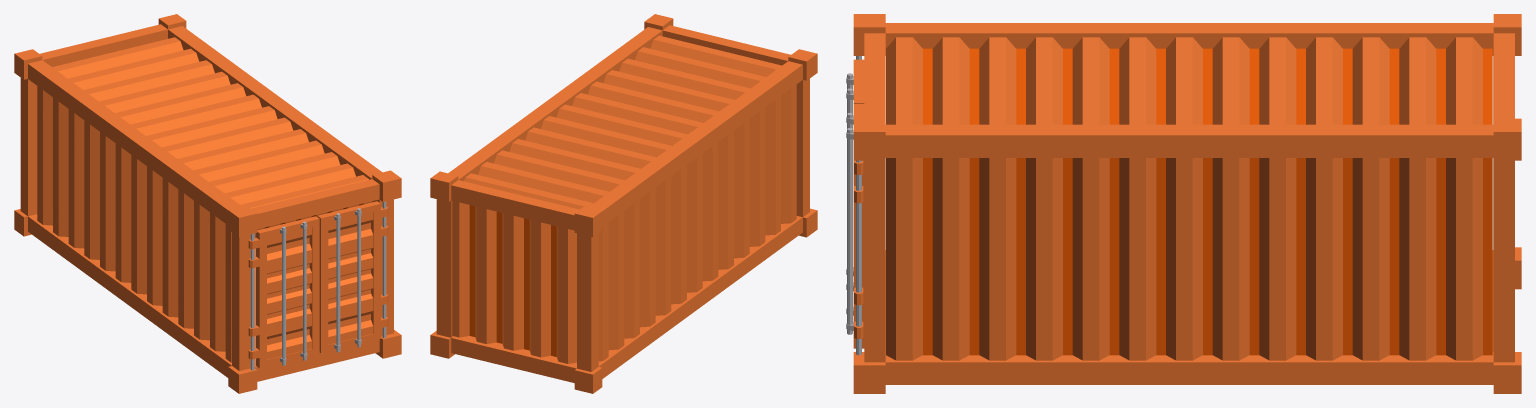
Rendered from Container_1_1.fbx.
The picture shows the model from 3 angles, left to right: view 1: azimuth 30°, elevation 25°; view 2: azimuth 150°, elevation 25°; view 3: azimuth 270°, elevation 25°; orthographic projection. The views are drawn at different scales.
Parts seen in each view (by area): view 1: Container_1_1, Door_Left_1_1, Door_Right_1_1; view 2: Container_1_1; view 3: Container_1_1, Door_Right_1_1, Door_Left_1_1.
Boxes of the visible parts, x1=… form: Container_1_1: x1=14, y1=14, x2=401, y2=393; Door_Left_1_1: x1=248, y1=216, x2=319, y2=370; Door_Right_1_1: x1=317, y1=201, x2=388, y2=353; Container_1_1: x1=430, y1=14, x2=817, y2=393; Container_1_1: x1=853, y1=14, x2=1521, y2=393; Door_Right_1_1: x1=846, y1=104, x2=864, y2=355; Door_Left_1_1: x1=846, y1=56, x2=864, y2=291.
Bounding box in the file's own units: 261 × 270 × 631.
